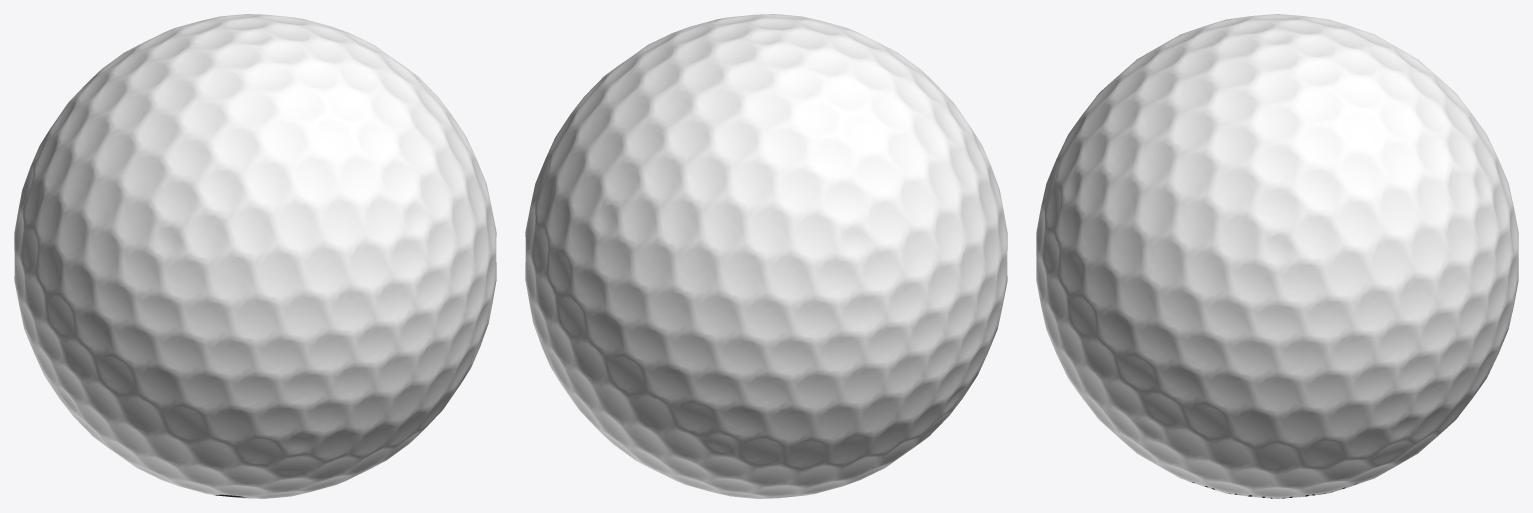
Rendered from GolfBall.FBX.
3 views of the same model, side by side, from view 1: azimuth 30°, elevation 25°; view 2: azimuth 150°, elevation 25°; view 3: azimuth 270°, elevation 25° (orthographic).
Parts seen in each view (by area): view 1: GeoSphere001; view 2: GeoSphere001; view 3: GeoSphere001.
Boxes of the visible parts, <box> form: GeoSphere001: <box>14,14,496,498</box>; GeoSphere001: <box>525,14,1007,498</box>; GeoSphere001: <box>1036,14,1518,498</box>.
Bounding box in the file's own units: 1.88 × 1.87 × 1.87.
Materials: 1 (1 with a texture image).
